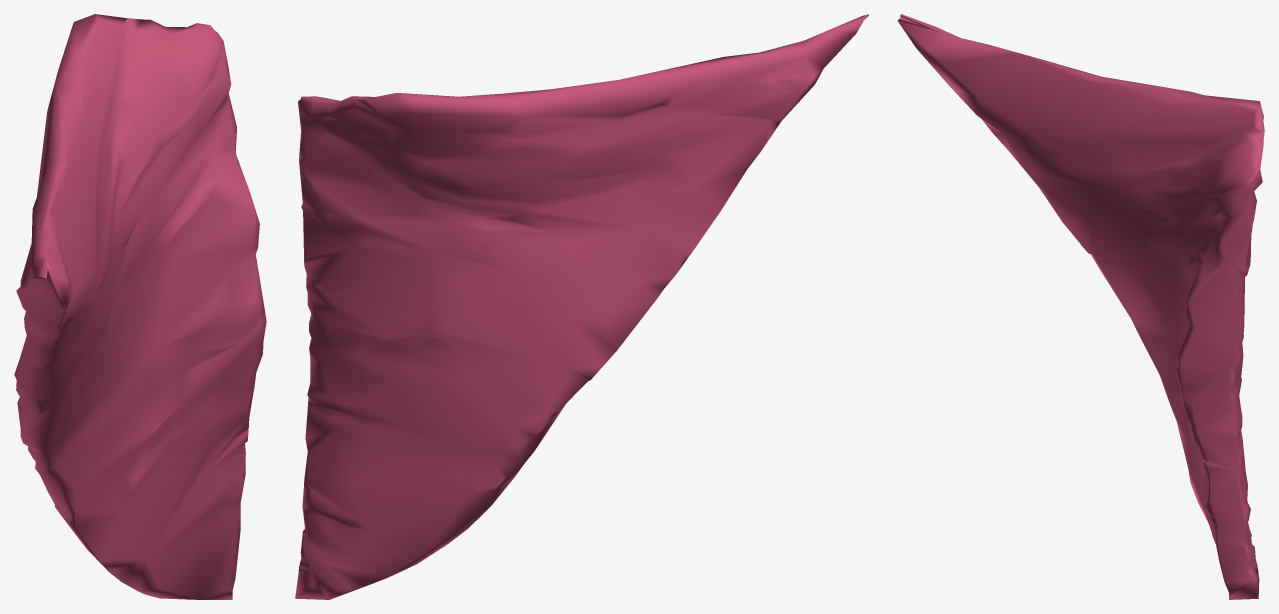
3 renders of one model, left to right at view 1: azimuth 30°, elevation 25°; view 2: azimuth 150°, elevation 25°; view 3: azimuth 270°, elevation 25°, orthographic. The views are drawn at different scales.
Visible parts, largest first — view 1: 右侧下颌舌骨肌; view 2: 右侧下颌舌骨肌; view 3: 右侧下颌舌骨肌.
Part boxes in pixels (x1,y1,x2,y2): 右侧下颌舌骨肌: (14, 14, 266, 599); 右侧下颌舌骨肌: (295, 14, 868, 599); 右侧下颌舌骨肌: (897, 14, 1264, 599).
Size of the model in its own units: 0.0397 by 0.0557 by 0.0412.
